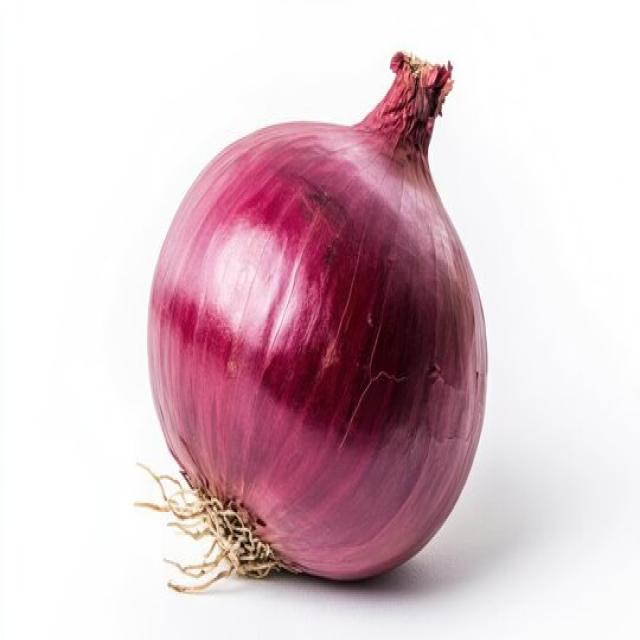Onion: (135, 48, 488, 594)
